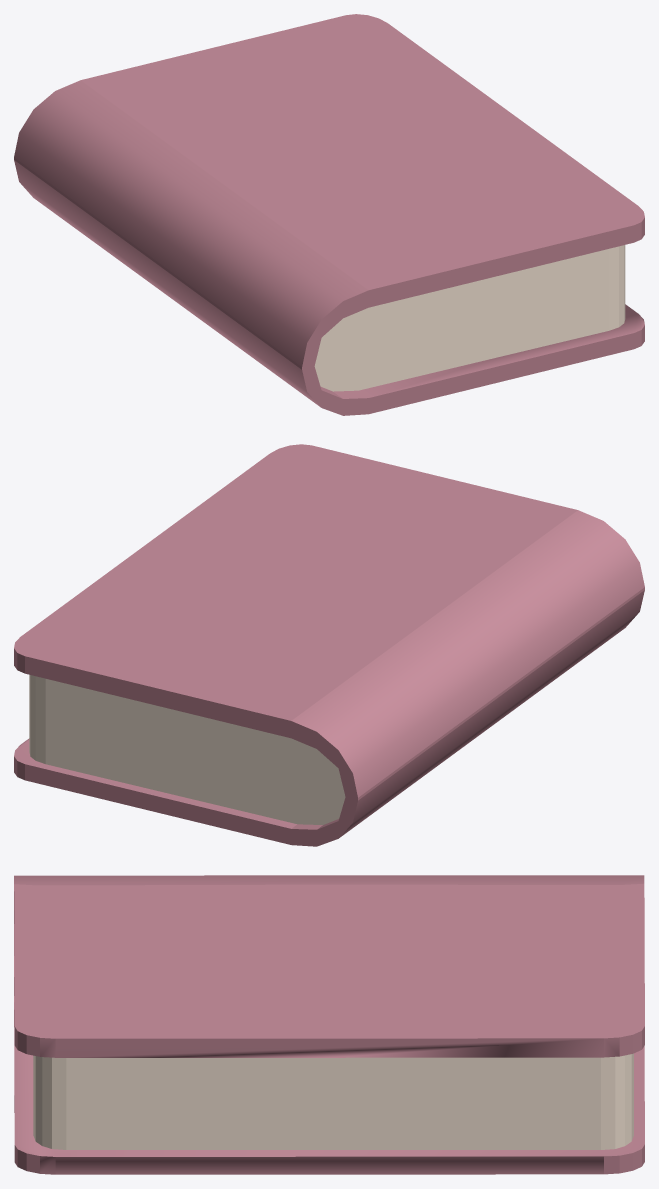
The model's file is Book_collectible.fbx.
3 renders of one model, top to bottom at view 1: azimuth 30°, elevation 25°; view 2: azimuth 150°, elevation 25°; view 3: azimuth 270°, elevation 25°, orthographic. The views are drawn at different scales.
Visible parts, largest first — view 1: Kannet, Sivut; view 2: Kannet, Sivut; view 3: Kannet, Sivut.
Boxes of the visible parts, x1,y1,x2,y2 form: Kannet: (14, 14, 644, 415); Sivut: (314, 245, 625, 391); Kannet: (14, 444, 644, 846); Sivut: (29, 674, 345, 824); Kannet: (14, 875, 644, 1174); Sivut: (33, 1053, 633, 1149).
Size of the model in its own units: 15.03 by 5.03 by 21.02.
